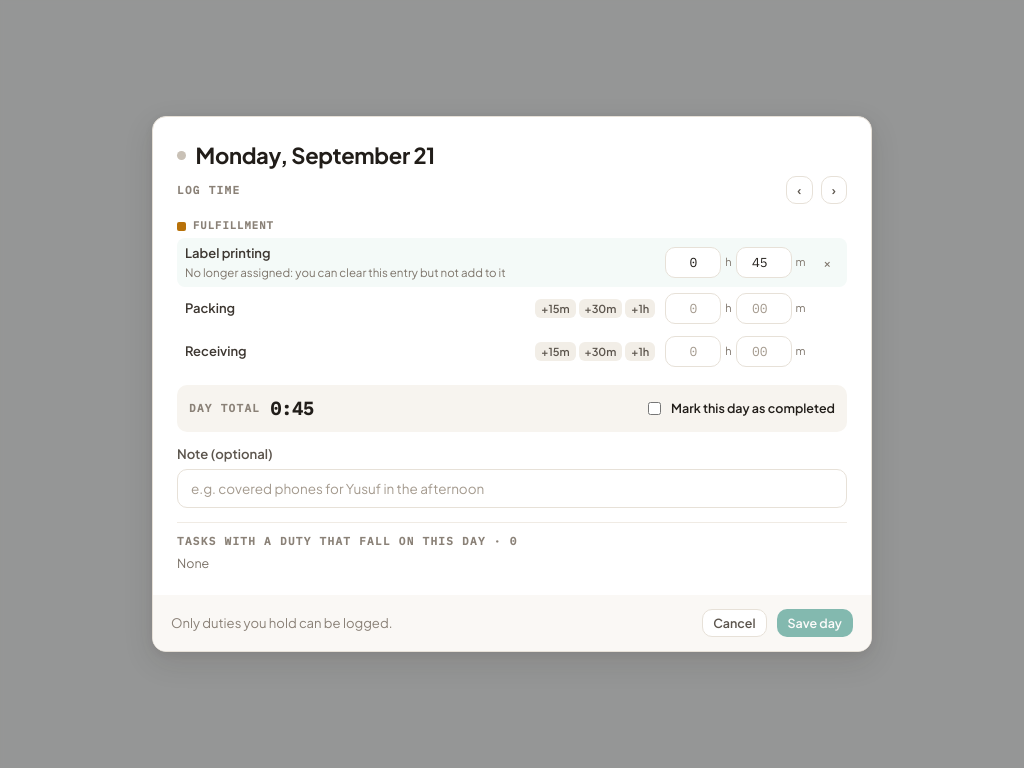
it: DayEditorModal › shows a duty no longer held as clear-only
This screenshot has width=1024, height=768.
Check: the text "No longer assigned" is shown, box [185,265,506,280]
Click the button named "Clear Label printing" at (827, 263), box [816,252,839,273]
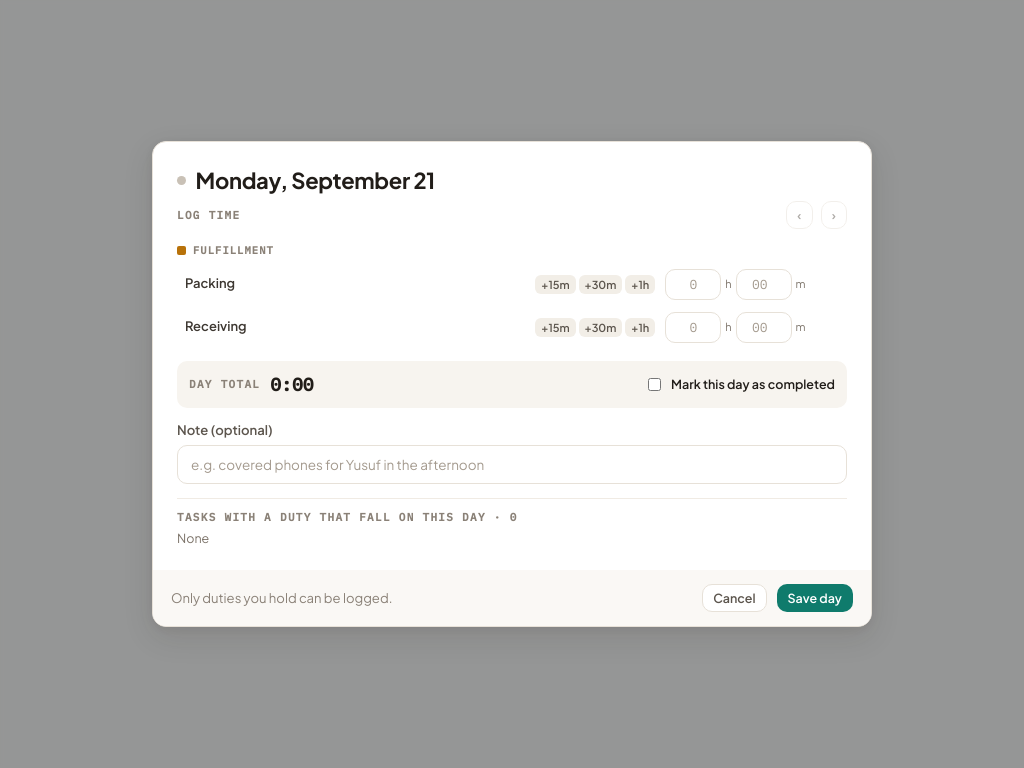
Check: the text "No longer assigned" is gone
